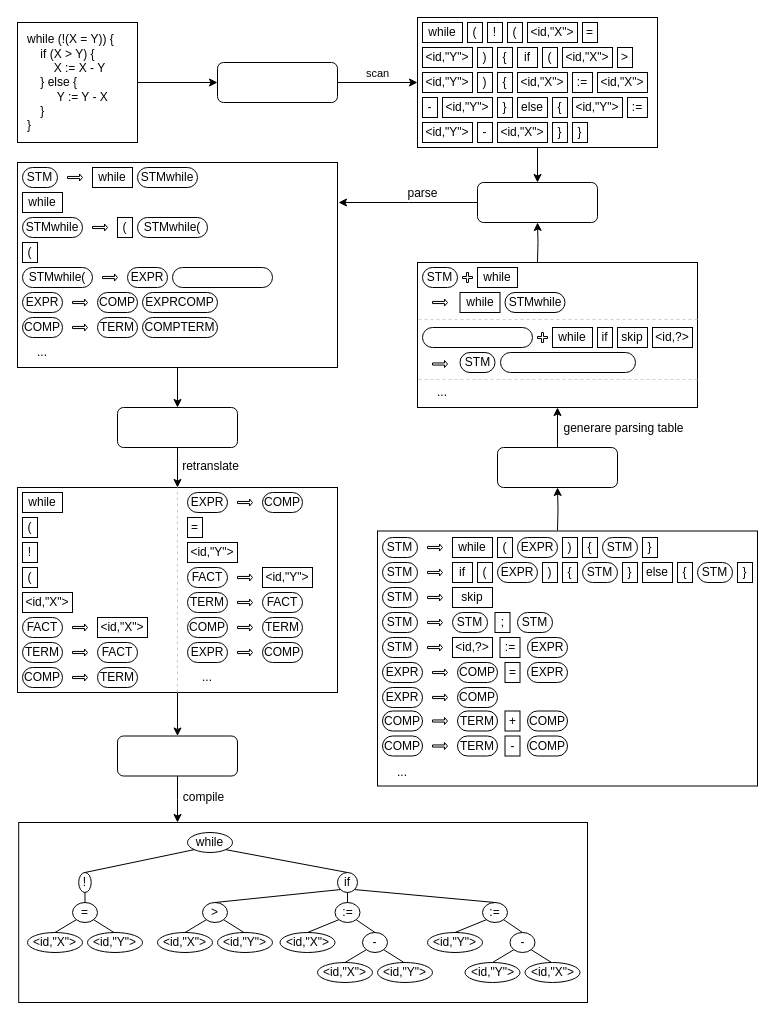
This 775x1020 diagram has some shape labels left out. Here are the shapes that lost their labels. From the top down, the box of each, then its label:
(216, 62, 338, 102): Scanner
(476, 182, 598, 222): Parser
(172, 266, 272, 288): STMwhile(EXPR
(422, 326, 532, 348): STMwhile(EXPR){
(500, 352, 636, 372): STMwhile(EXPR){STM
(116, 406, 238, 448): ParseTree
(496, 446, 618, 488): Grammar
(116, 735, 238, 776): ASTCompiler
